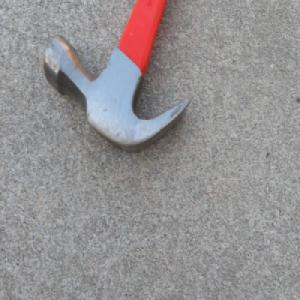Hammer: (43, 0, 192, 156)
